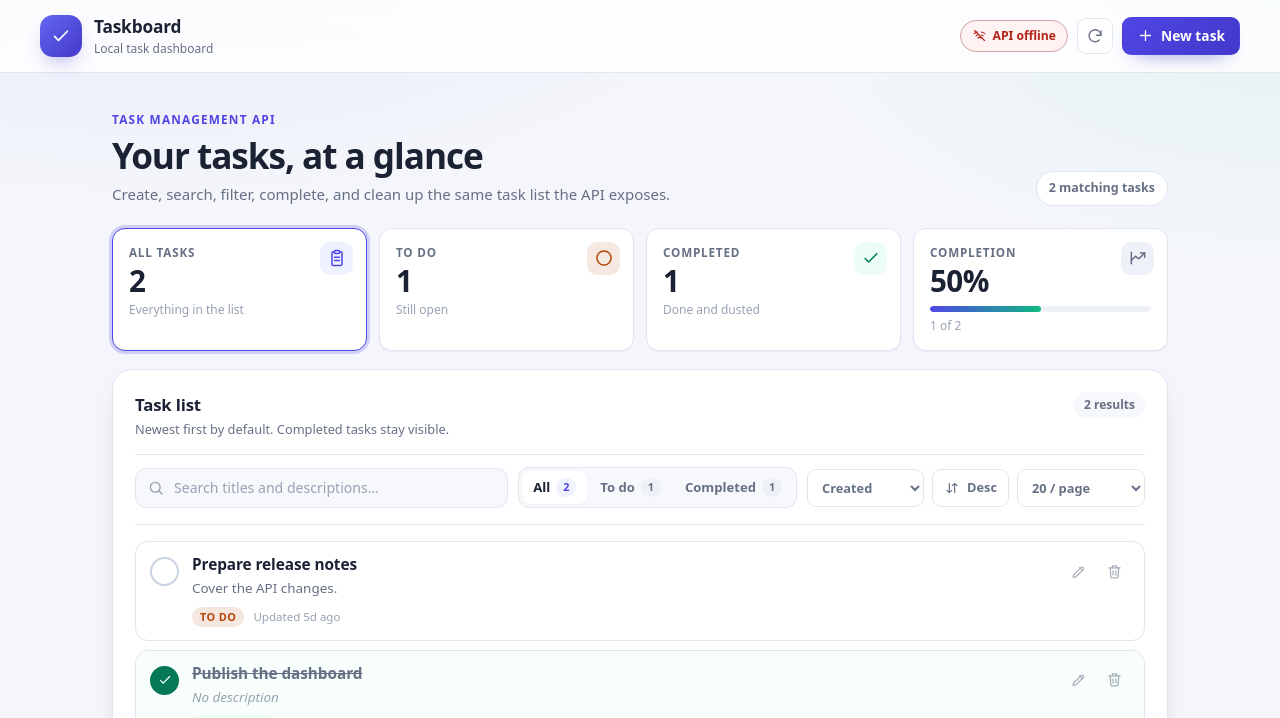
Test case: App › validates an empty title and restores focus when Escape closes the dialog
Check: the heading "Prepare release notes" is shown, box top-left (192, 554), bottom-right (357, 575)
Click the button "New task": [1181, 36] box top-left (1122, 17), bottom-right (1240, 55)
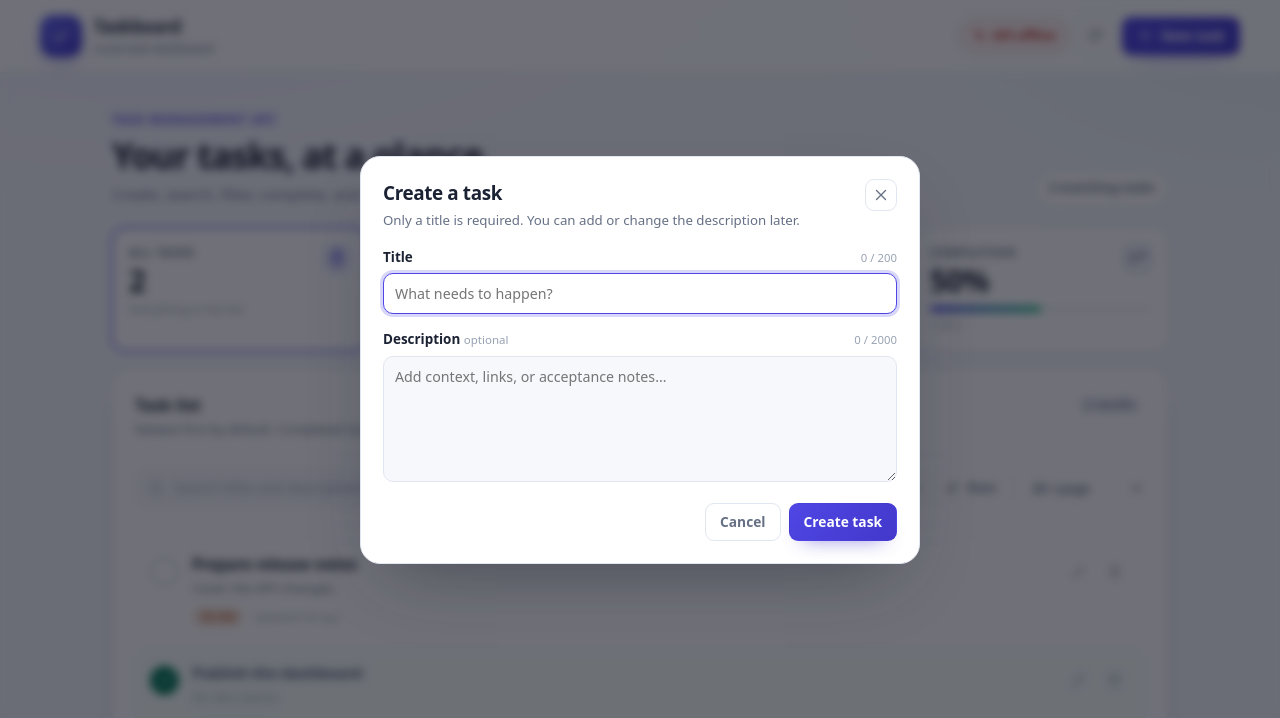
Click the button "Create task": [843, 522] box top-left (788, 503), bottom-right (897, 541)
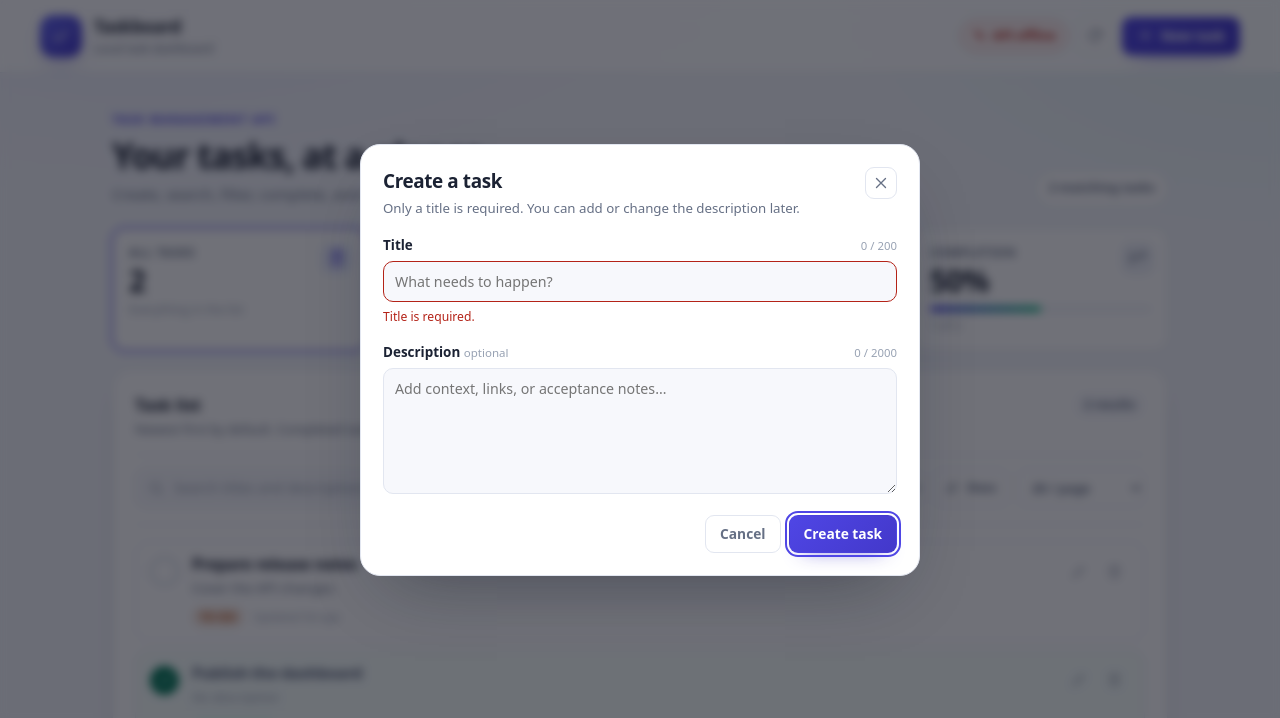
Check: the text "Title is required." is shown, box top-left (383, 308), bottom-right (475, 325)
Press Escape
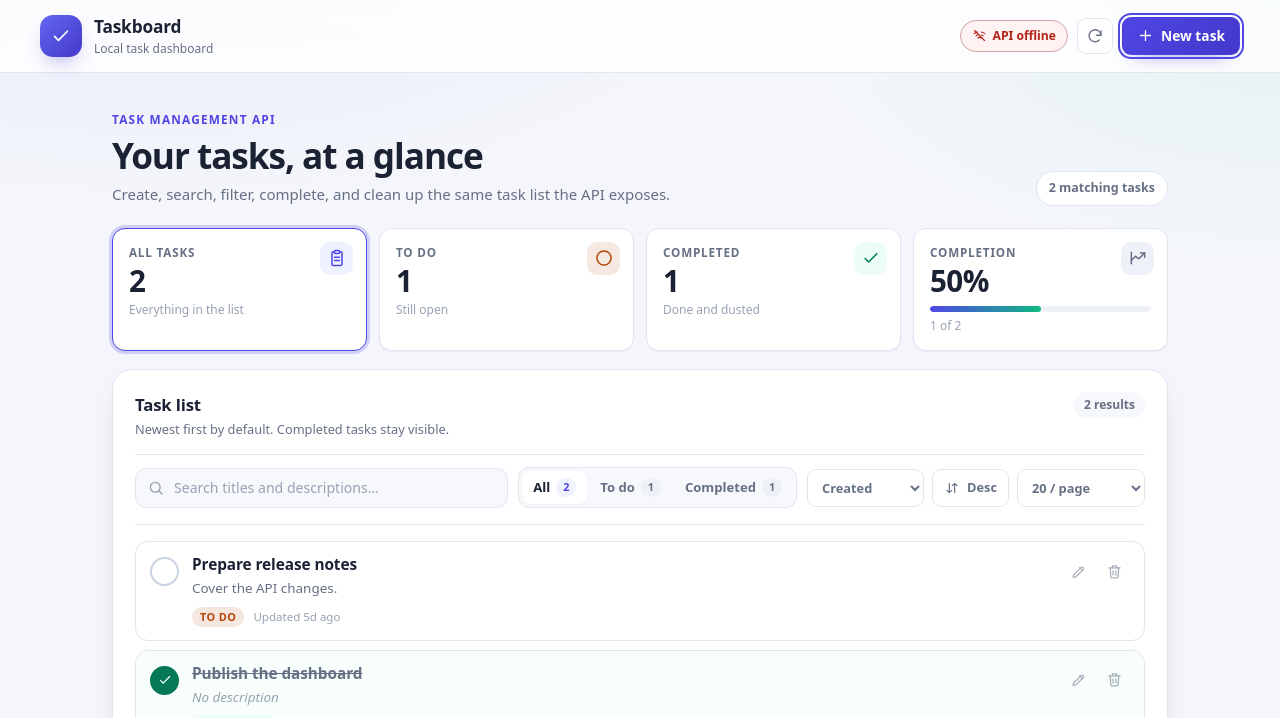
Check: the heading "Create a task" is gone
